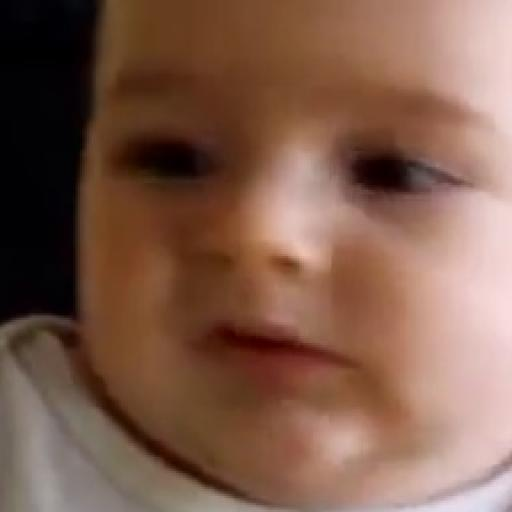Autism: (93, 0, 512, 508)
